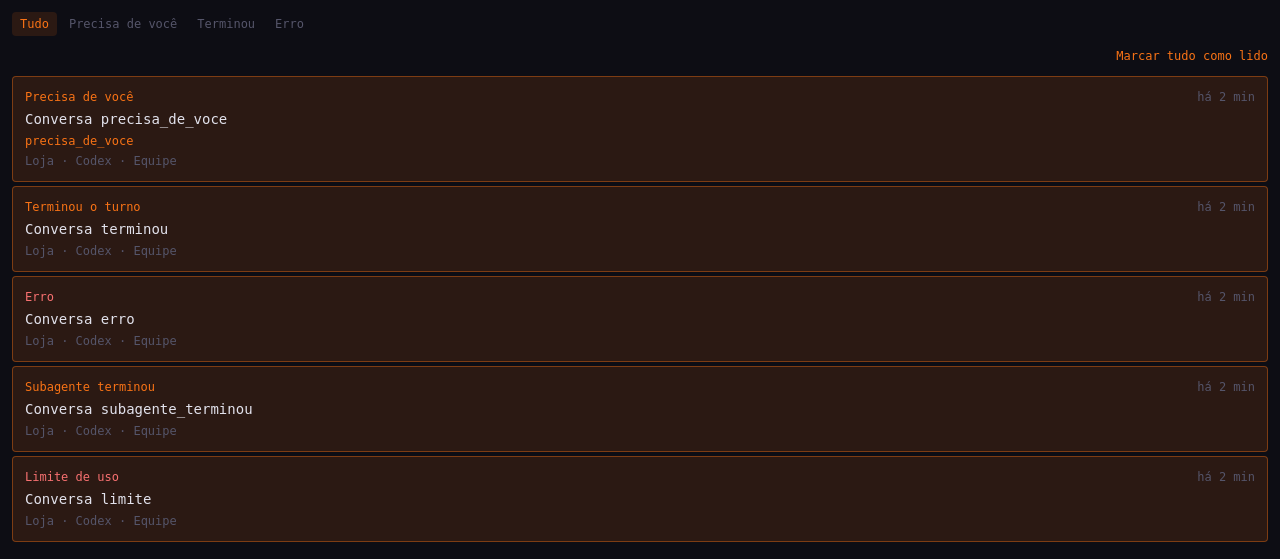
it: Caixa Atividade › mostra projeto, agente, conta e tempo e filtra os tipos
Expected: the text "Loja · Codex · Equipe" is shown 5 times, [25,154,177,168]; [25,244,177,258]; [25,334,177,348]; [25,424,177,438]; [25,514,177,528]
Expected: the text "há 2 min" is shown 5 times, [1197,89,1255,105]; [1197,199,1255,215]; [1197,289,1255,305]; [1197,379,1255,395]; [1197,469,1255,485]
Click the button "Terminou". click: (226, 24)
box: [189,12,263,36]
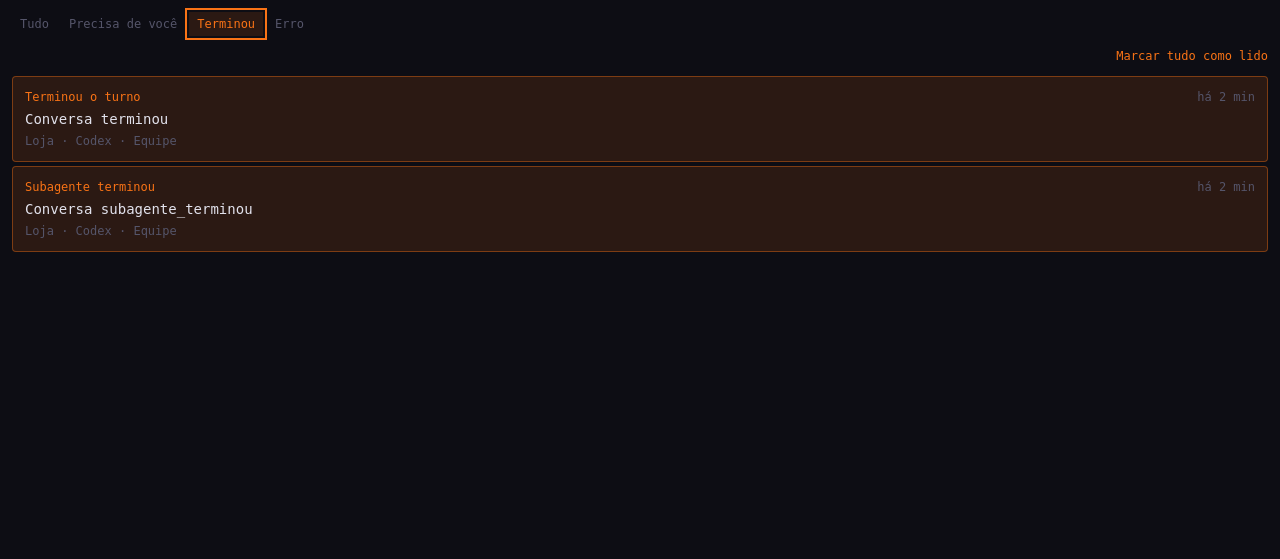
Expected: the text "Conversa subagente_terminou" is shown, [25,201,253,217]
Result: the button "Conversa erro" is gone
Click the button "Erro". click: (290, 24)
box: [267,12,312,36]
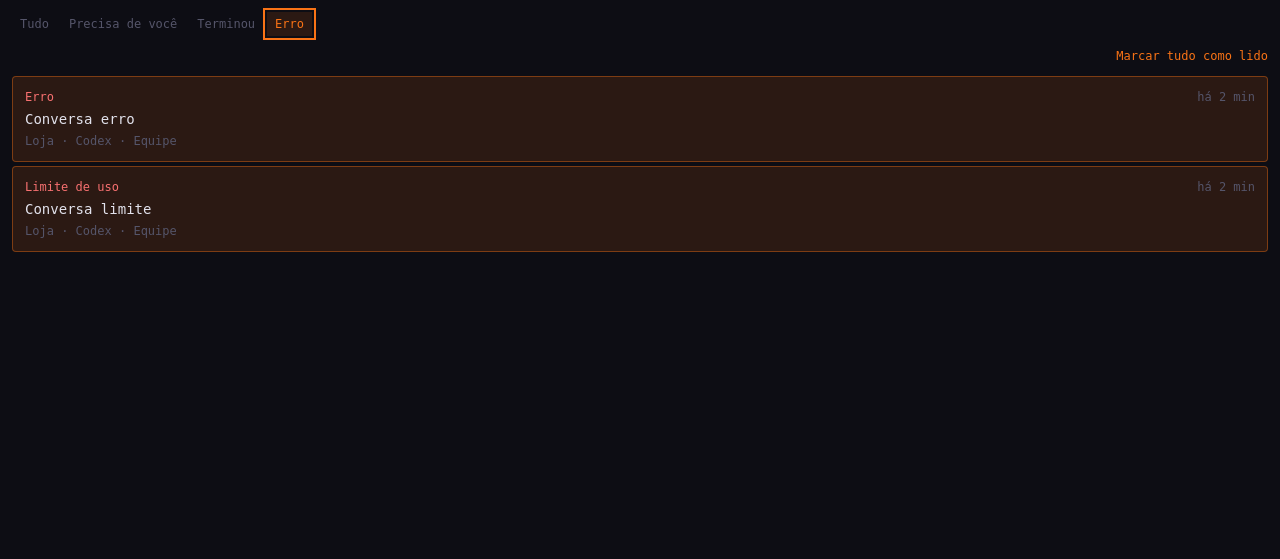
Result: the text "Conversa limite" is shown at [25,201,151,217]
